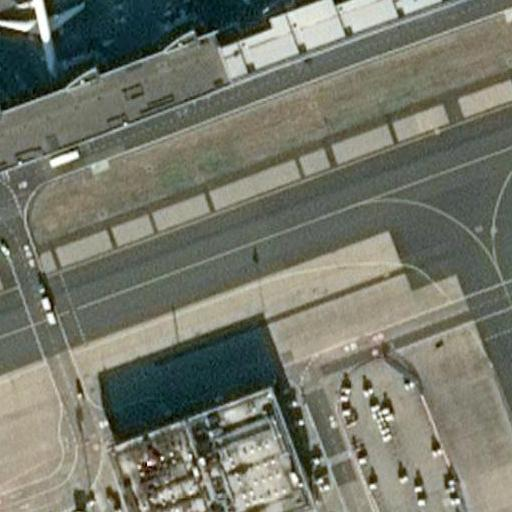Aircraft: (0, 0, 85, 76), (178, 0, 264, 8)
